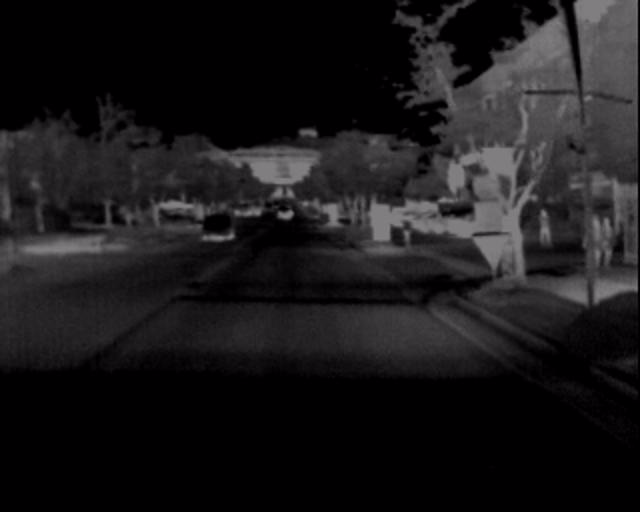person: (496, 218, 524, 282), (588, 209, 614, 276)
